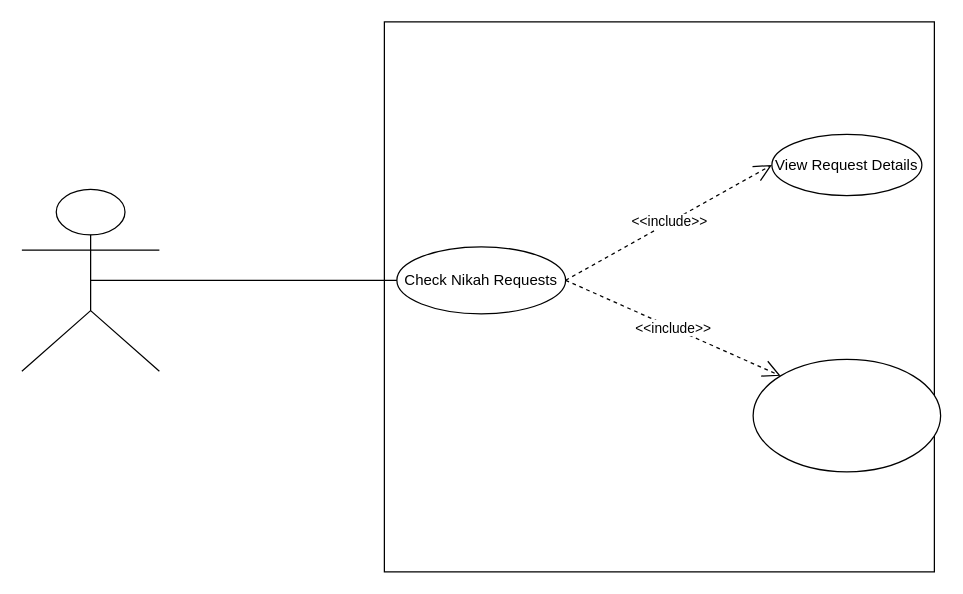
Some shapes in this 963 by 594 pixel diagram are drawn without their labels. Each missing label, with the centre of its shape:
"Religious Scholar" goes at pixel 90 279.
"Update Request Status (Accepted / Rejected)" goes at pixel 846 415.
